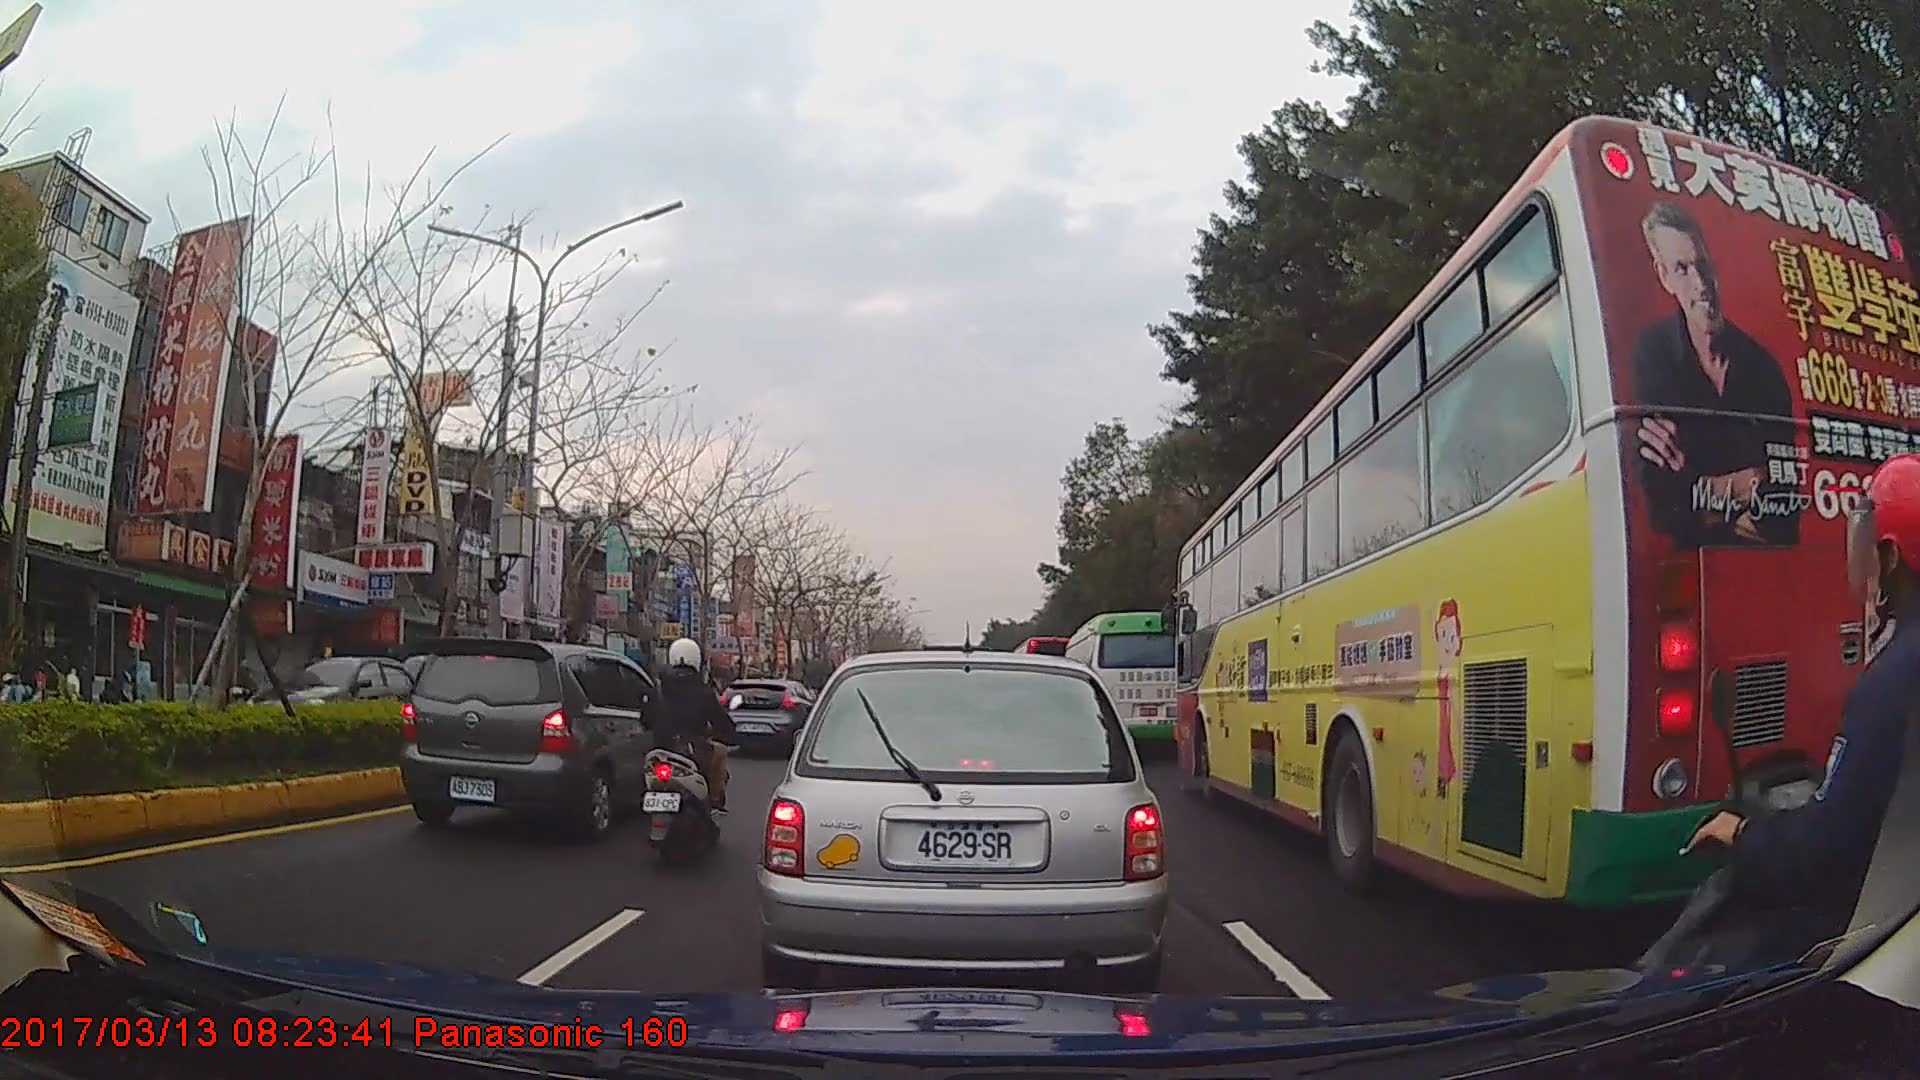rider: (1643, 456, 1920, 1080), (641, 636, 737, 857), (1, 651, 36, 702), (227, 660, 258, 705)
vehicle: (1173, 113, 1920, 912), (760, 651, 1166, 997), (399, 637, 678, 839), (242, 652, 442, 751), (1062, 610, 1188, 759), (712, 676, 821, 759)
